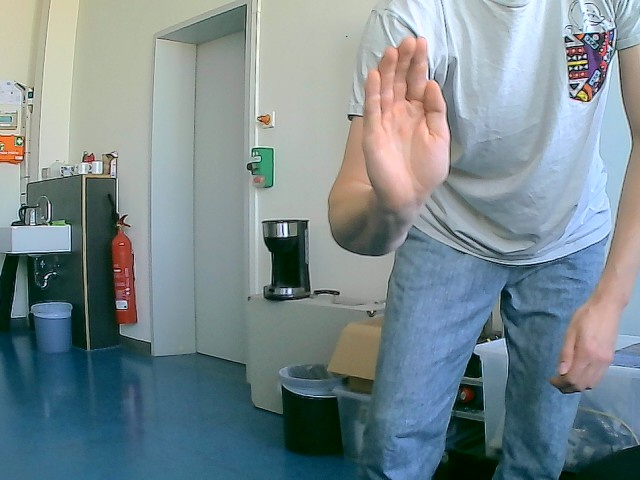no_gesture: (548, 295, 630, 393)
stop: (360, 35, 452, 213)
